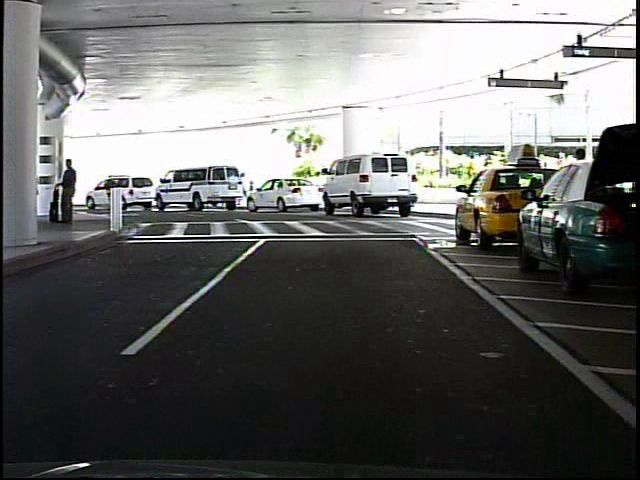person: (565, 141, 593, 238), (61, 157, 80, 224), (239, 170, 254, 209)
